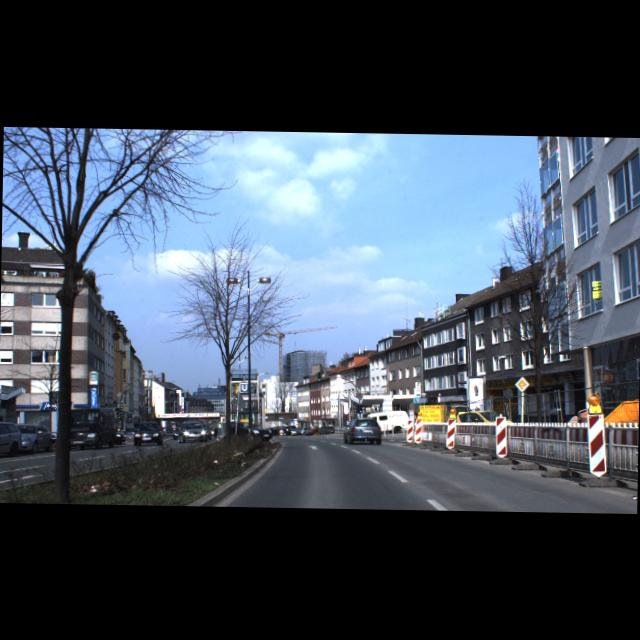other: (514, 375, 530, 392)
